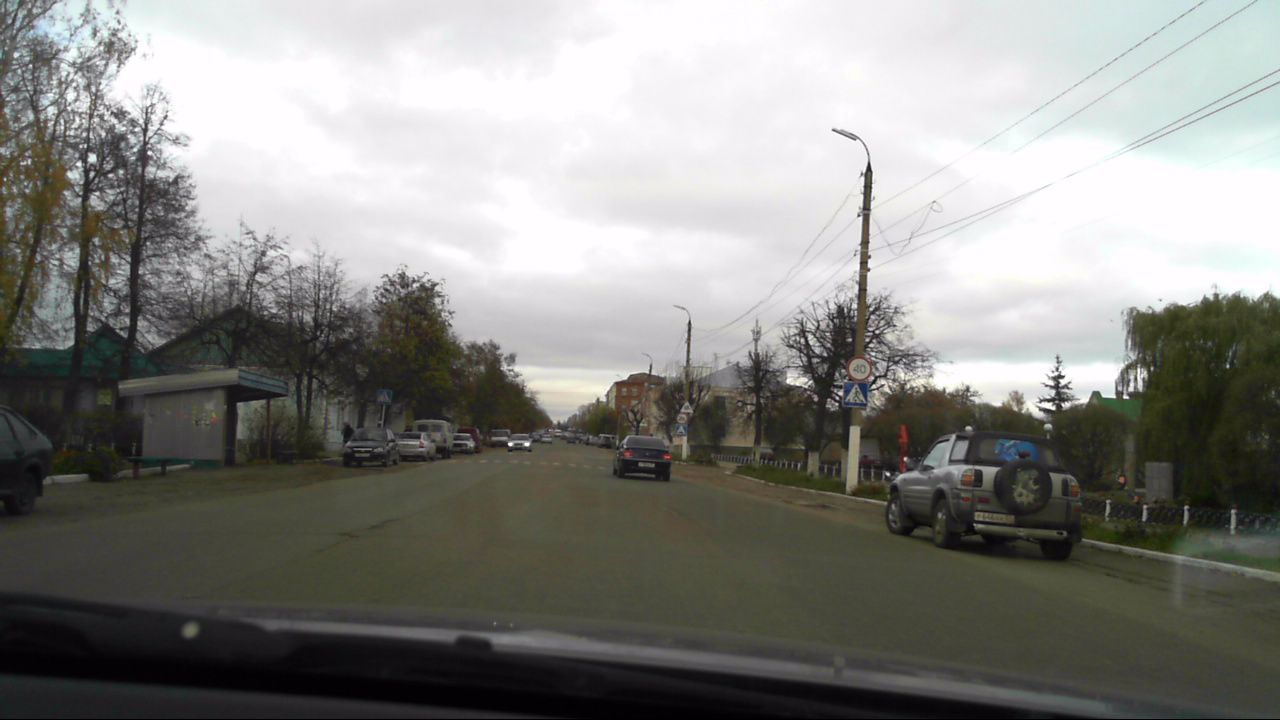speed_warning_40: (846, 357, 871, 380)
